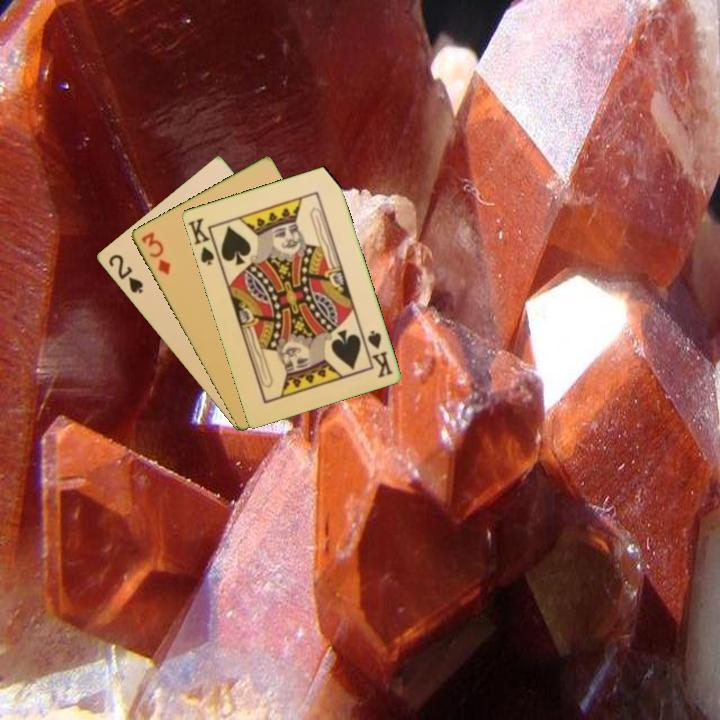2s: (104, 250, 146, 297)
3d: (137, 228, 173, 278)
Ks: (184, 214, 217, 268), (364, 326, 396, 381)
